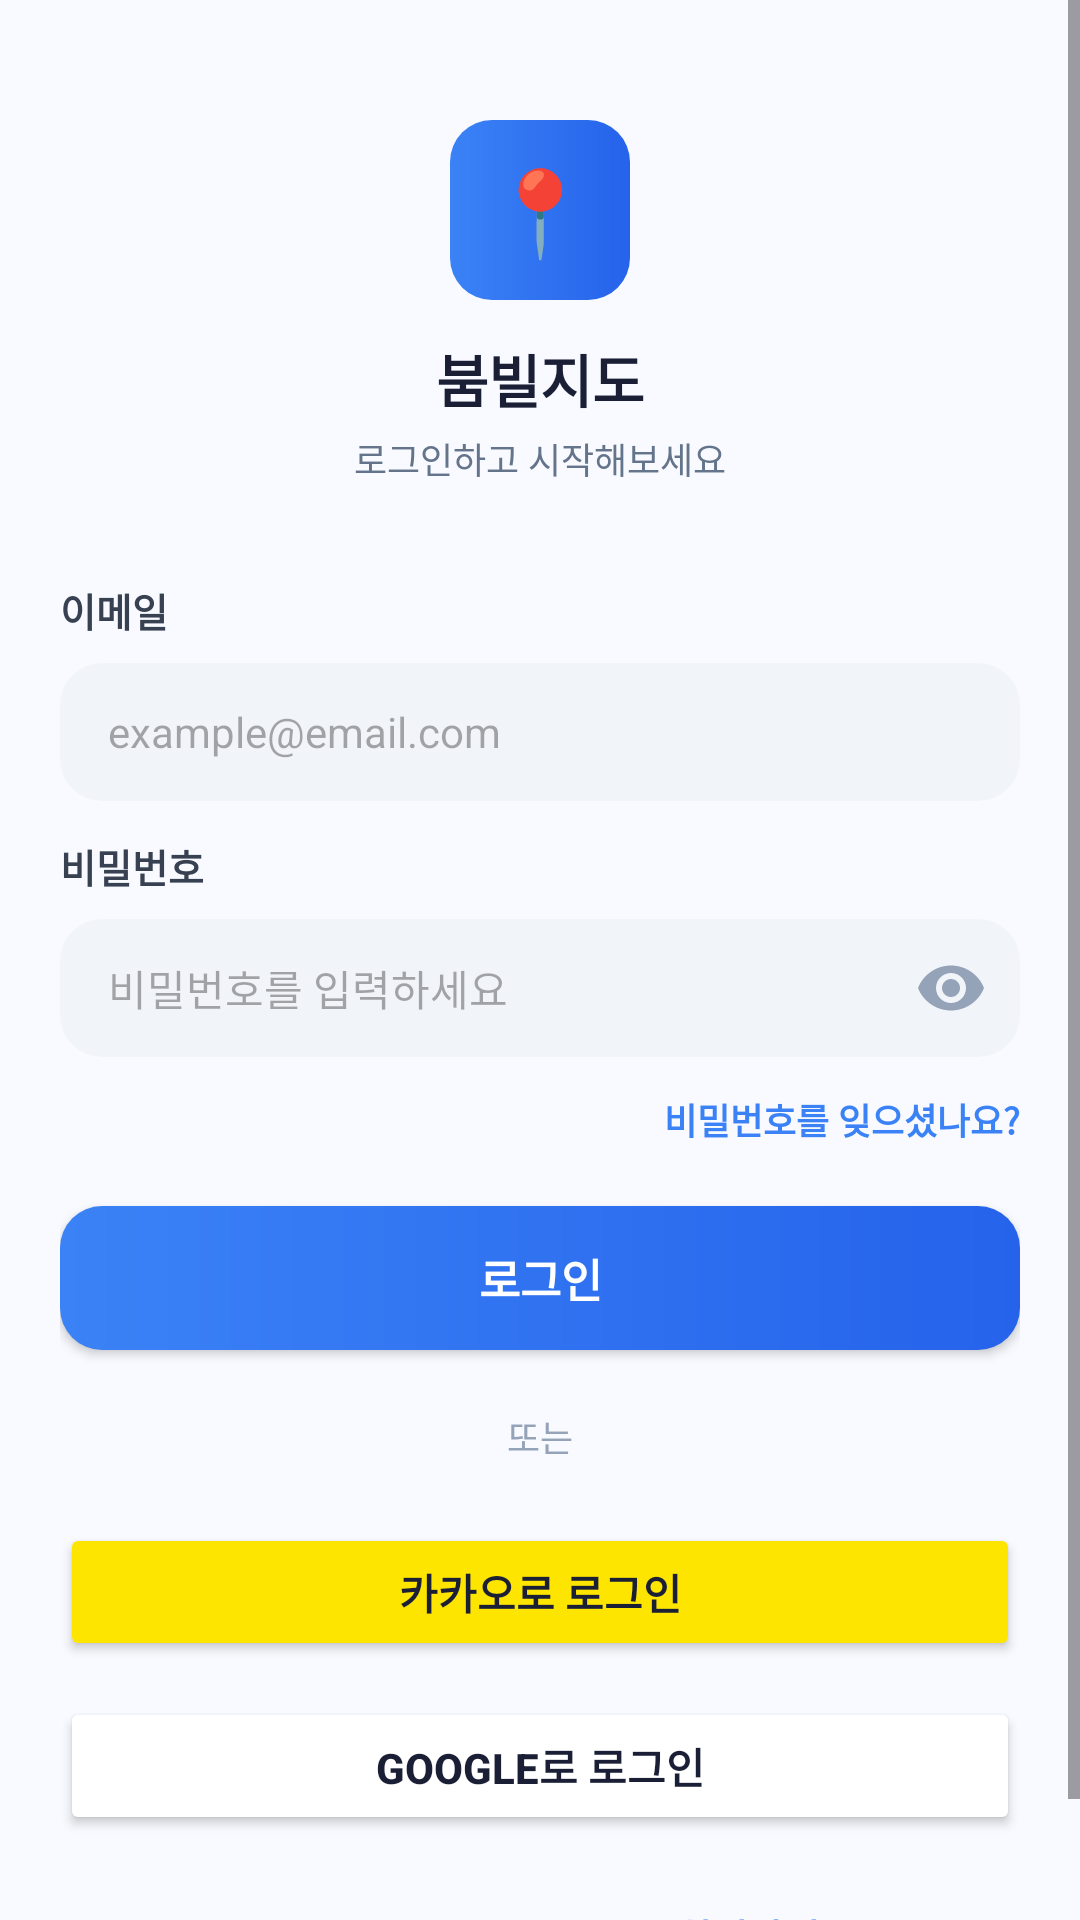

Locate icon controls on the screen. Image size 1080×1920, boxes as Rect(x1, y1, x2, y2).
visibility: Rect(918, 965, 984, 1011)
